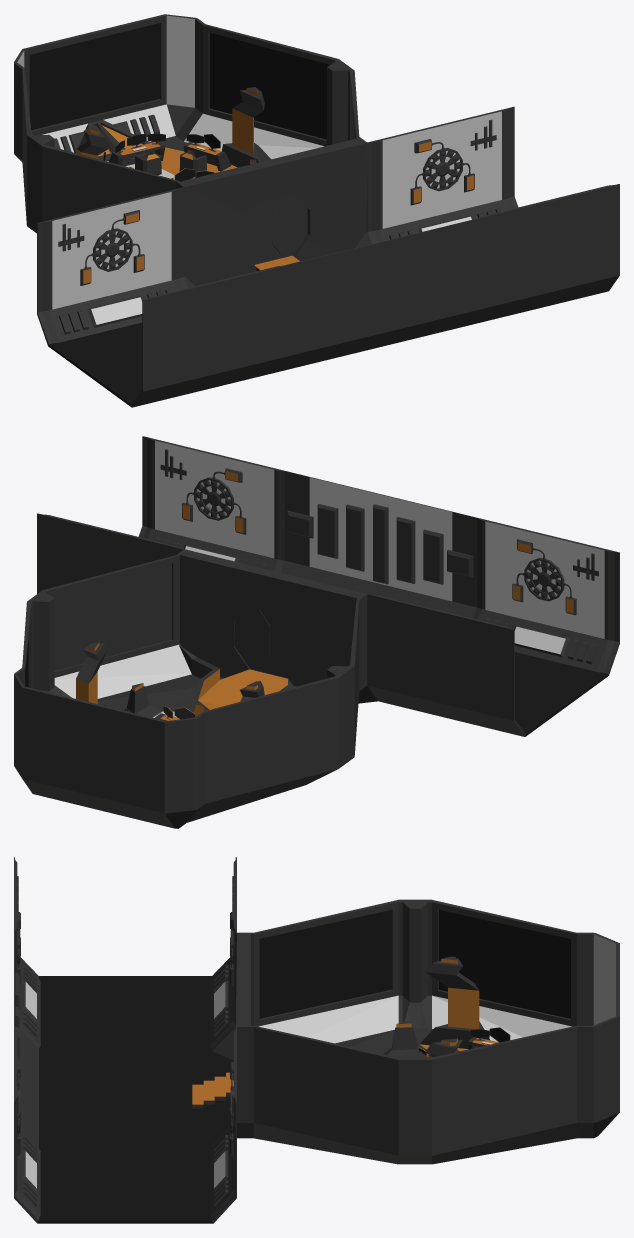
Rendered from Captain-stuk.fbx.
3 renders of one model, top to bottom at view 1: azimuth 30°, elevation 25°; view 2: azimuth 150°, elevation 25°; view 3: azimuth 270°, elevation 25°, orthographic. The views are drawn at different scales.
Visible parts, largest first — view 1: Captain_stuk, Cube_1, Cube_2; view 2: Captain_stuk, Cube_1, Cube_2; view 3: Captain_stuk.
Part boxes in pixels (x1=…): Captain_stuk: x1=14, y1=14, x2=619, y2=407; Cube_1: x1=240, y1=198, x2=282, y2=264; Cube_2: x1=272, y1=195, x2=307, y2=257; Captain_stuk: x1=14, y1=436, x2=619, y2=828; Cube_1: x1=259, y1=609, x2=303, y2=678; Cube_2: x1=234, y1=607, x2=270, y2=670; Captain_stuk: x1=14, y1=857, x2=619, y2=1223.
Bounding box in the file's own units: 2600 × 600 × 2718.
